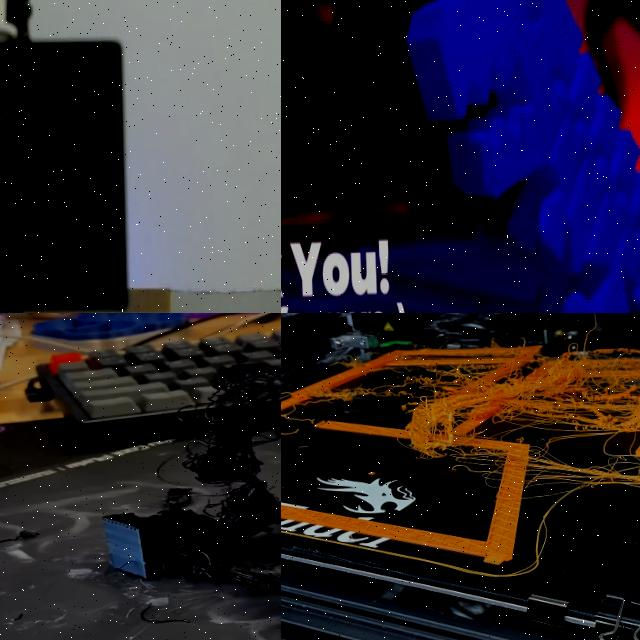spaghetti: (287, 345, 640, 492), (134, 362, 281, 607)
